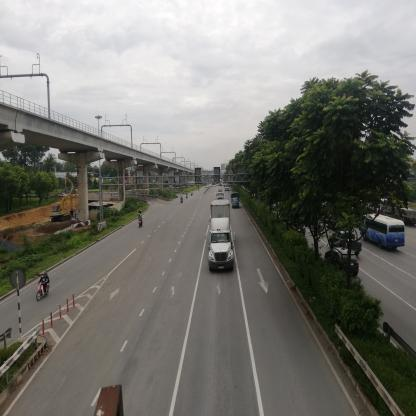bus: (362, 213, 408, 254)
car: (327, 250, 362, 278)
container: (209, 202, 235, 274)
motorbike: (36, 274, 53, 302), (140, 219, 144, 229), (182, 197, 185, 207)
truck: (232, 193, 240, 210)
